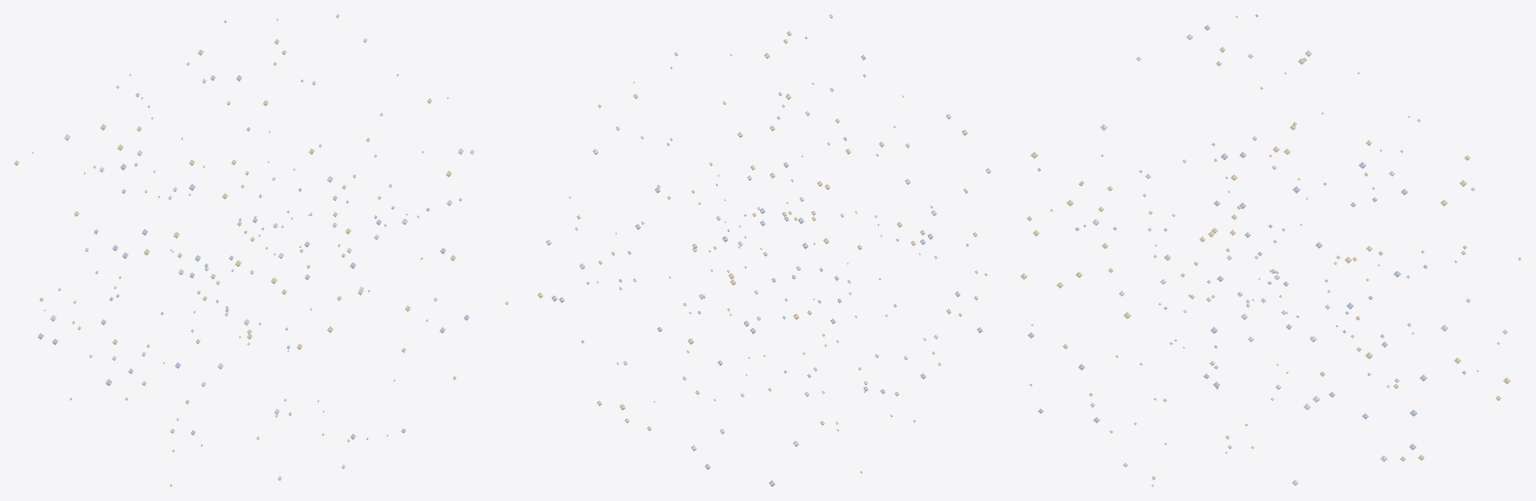
3 views of the same model, side by side, from view 1: azimuth 30°, elevation 25°; view 2: azimuth 150°, elevation 25°; view 3: azimuth 270°, elevation 25° (orthographic). The views are drawn at different scales.
Size of the model in its own units: 4.96 by 4.95 by 4.86.
